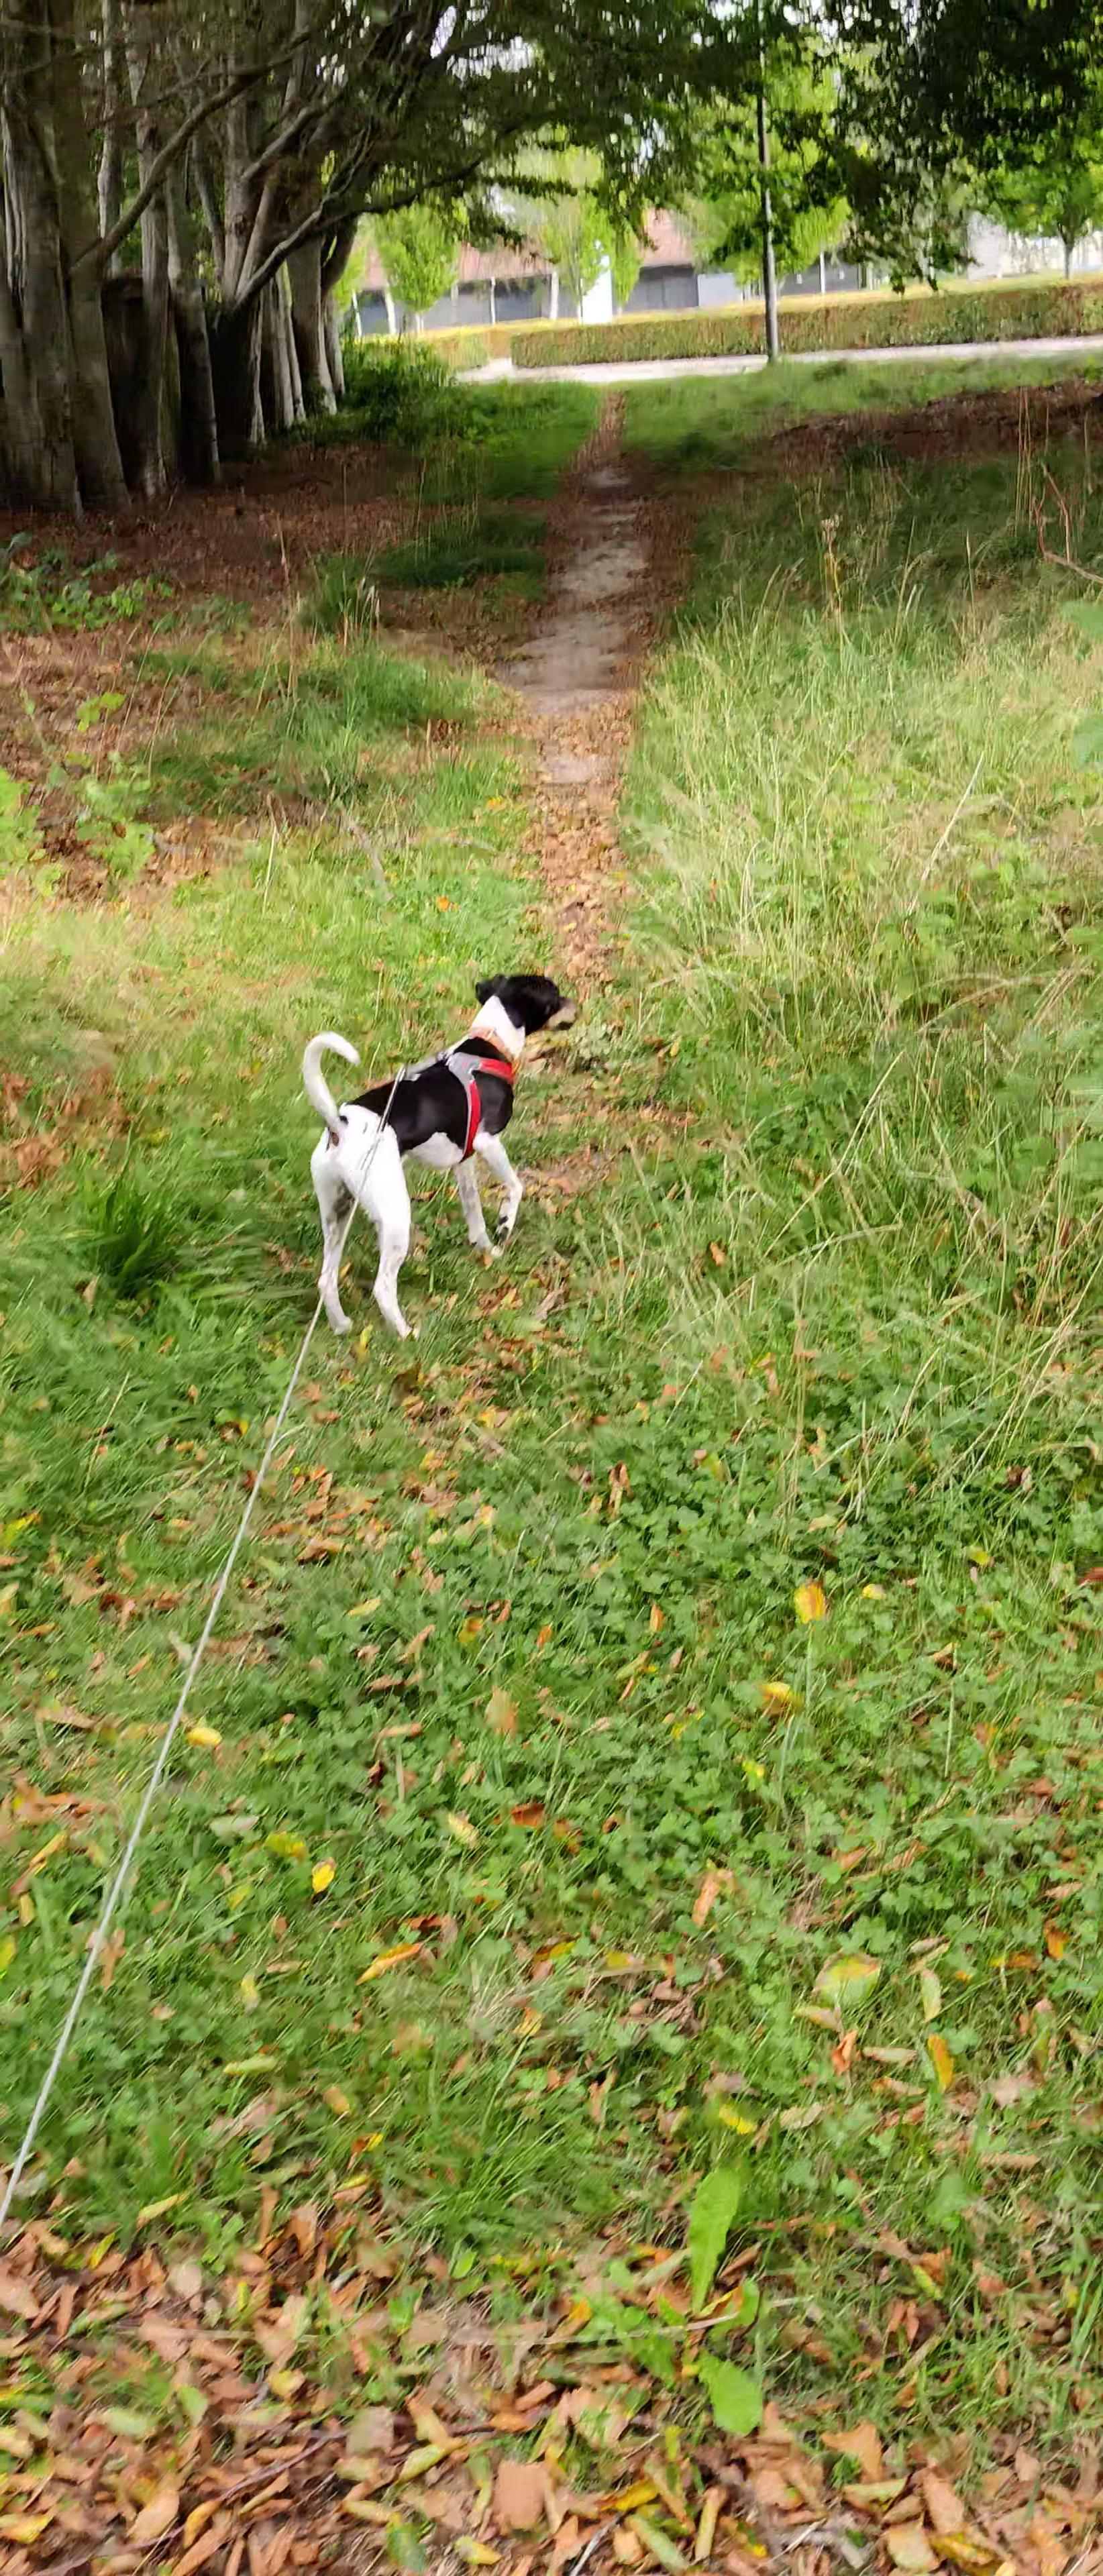Dog: (270, 958, 600, 1362)
